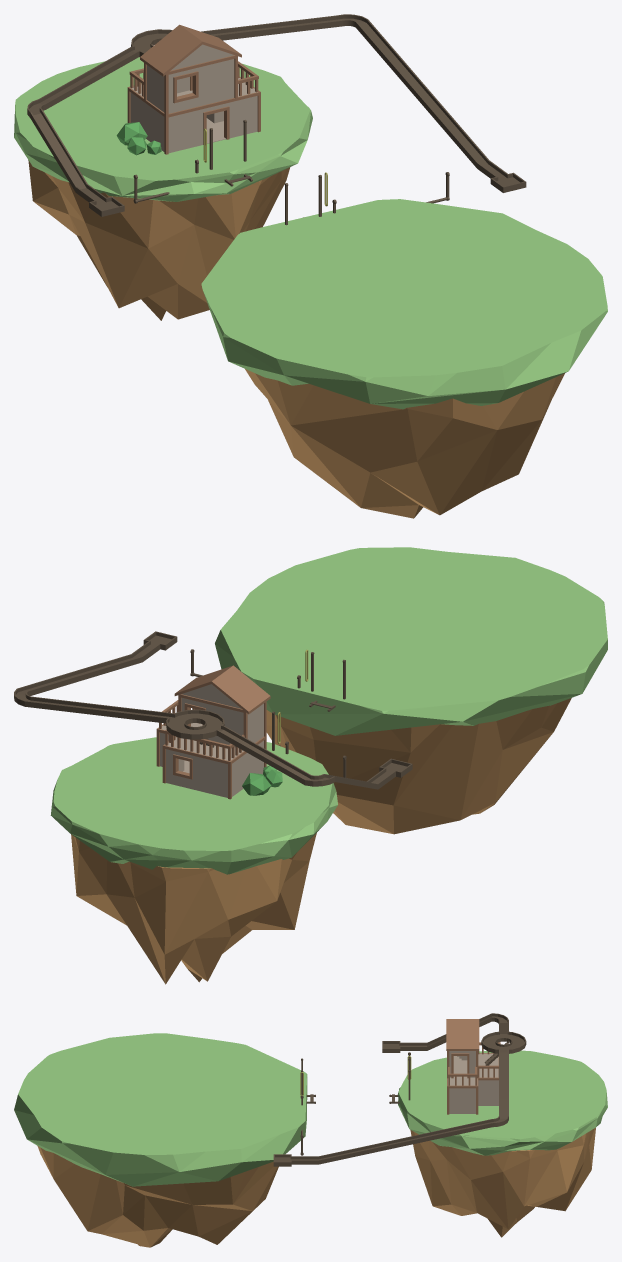
Rendered from trick1_fixed.fbx.
The picture shows the model from 3 angles, top to bottom: view 1: azimuth 30°, elevation 25°; view 2: azimuth 150°, elevation 25°; view 3: azimuth 270°, elevation 25°; orthographic projection. The views are drawn at different scales.
Parts seen in each view (by area): view 1: island2, island1, wall, way_l, way_r, edge, roof, railing; view 2: island2, island1, wall, way_l, way_r, roof, edge, platform, railing; view 3: island2, island1, way_l, wall, roof, way_r, platform, edge, railing.
Part boxes in pixels (<box>): island2: <box>201,199,607,518</box>; island1: <box>14,57,312,320</box>; wall: <box>130,44,257,153</box>; way_l: <box>201,14,526,192</box>; way_r: <box>27,46,140,216</box>; edge: <box>127,55,260,154</box>; roof: <box>140,24,241,76</box>; railing: <box>129,61,258,96</box>; island2: <box>215,547,607,834</box>; island1: <box>50,737,337,984</box>; wall: <box>160,684,263,797</box>; way_l: <box>14,631,177,723</box>; way_r: <box>215,725,412,789</box>; roof: <box>174,665,270,714</box>; edge: <box>156,694,266,799</box>; platform: <box>166,709,224,739</box>; railing: <box>159,700,244,760</box>; island2: <box>14,1033,307,1247</box>; island1: <box>397,1050,607,1237</box>; way_l: <box>273,1049,508,1166</box>; wall: <box>448,1051,498,1113</box>; roof: <box>446,1019,479,1050</box>; way_r: <box>382,1013,508,1052</box>; platform: <box>481,1031,526,1053</box>; edge: <box>447,1051,498,1114</box>; railing: <box>448,1042,500,1085</box>.
Size of the model in its own units: 2799 by 2248 by 5305.
